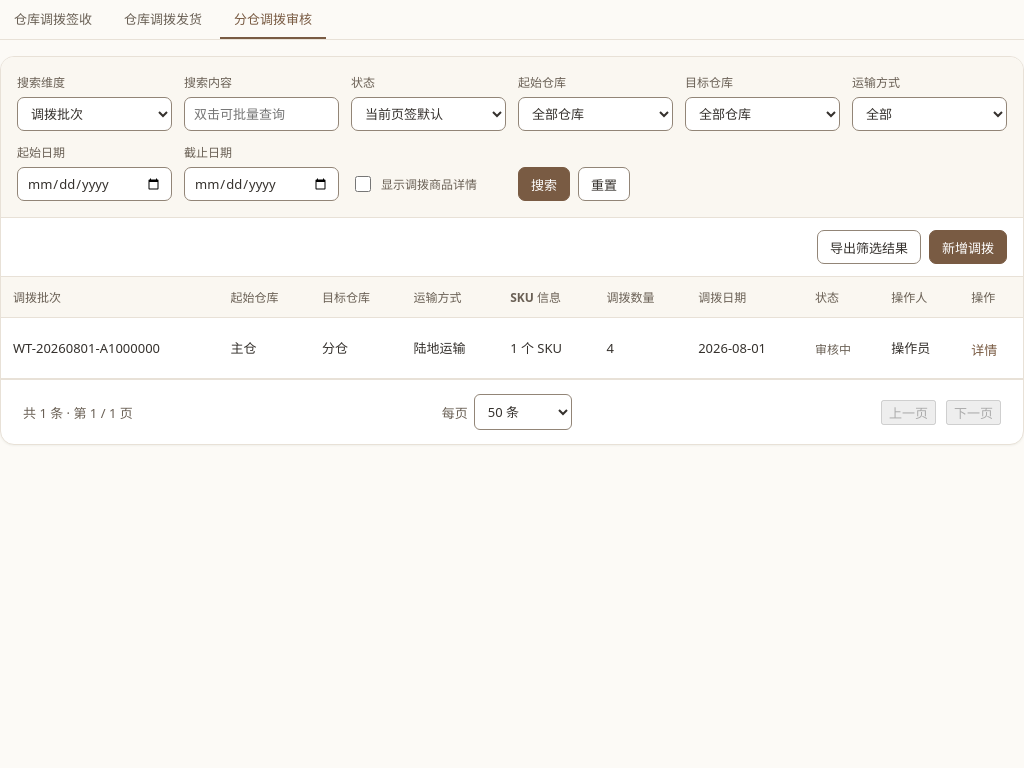
Scenario: WarehouseTransferPage › loads the approval queue and approves a transfer after confirmation
This screenshot has width=1024, height=768.
expect the text "WT-20260801-A1000000" is shown: met, box left=1, top=318, right=218, bottom=378
Click the button "详情" at (984, 350), box left=971, top=332, right=997, bottom=368
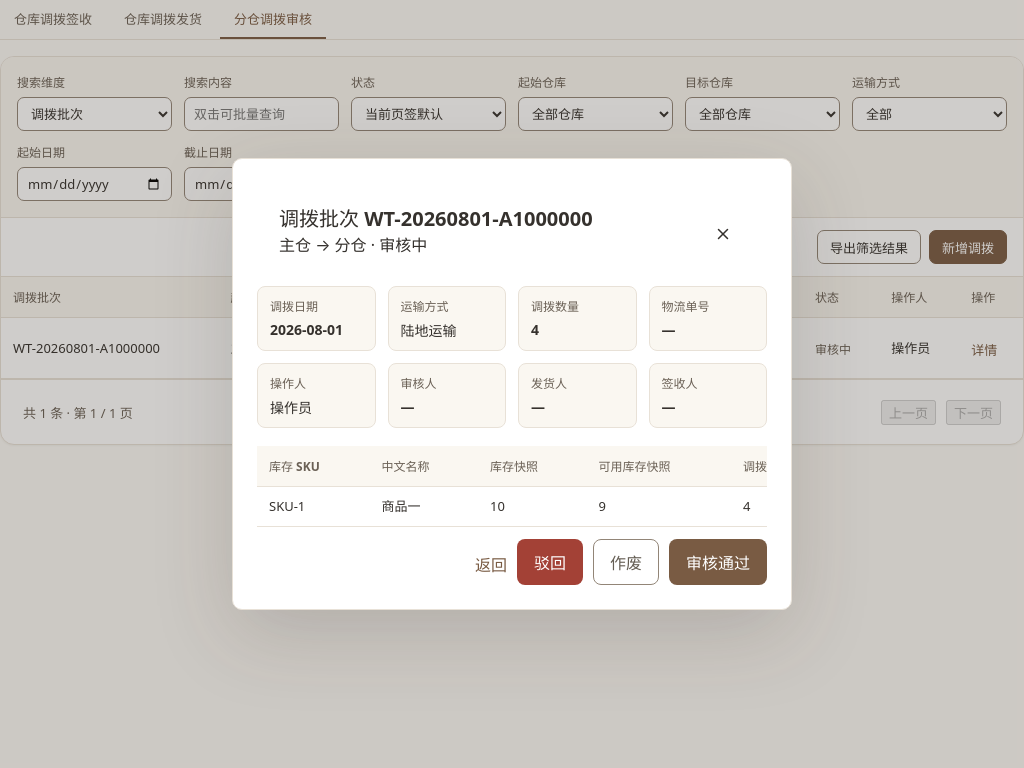
Click the button "审核通过" at (718, 562), box left=669, top=539, right=767, bottom=585
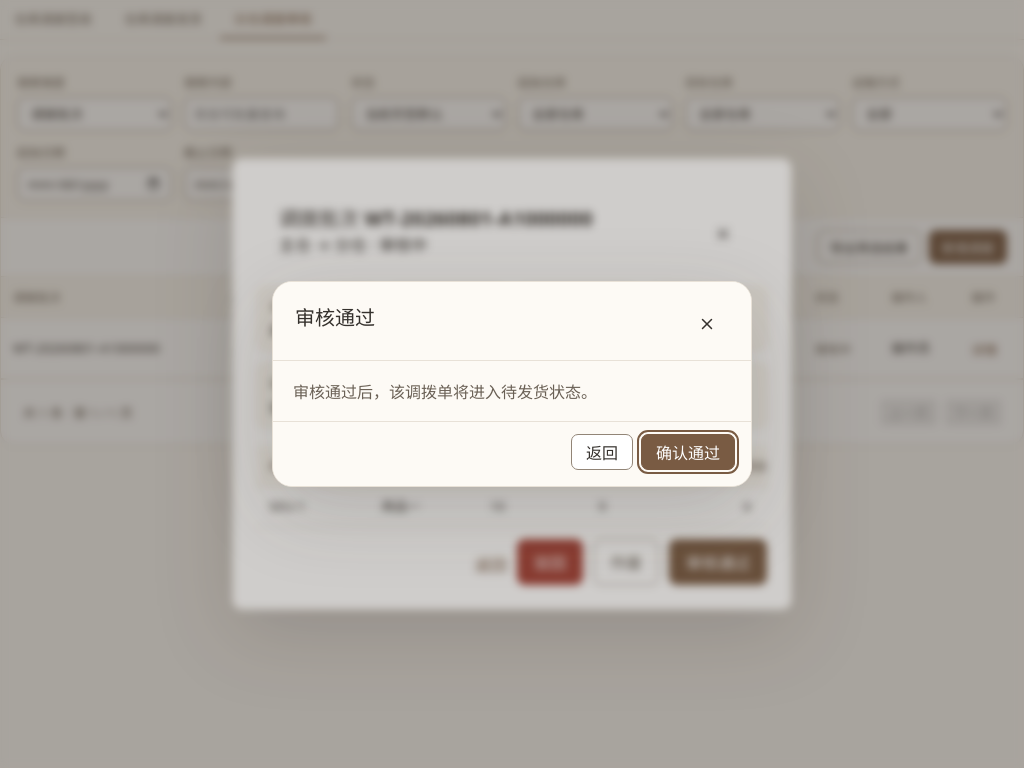
Click the button "确认通过" at (688, 452), box left=641, top=434, right=735, bottom=470
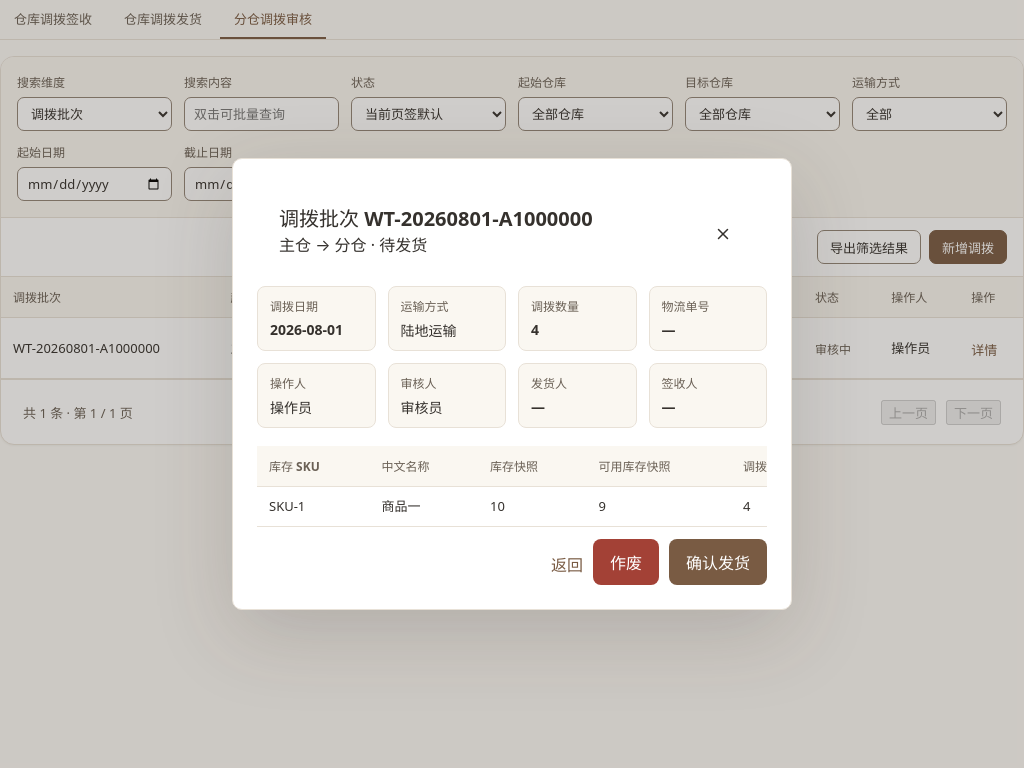
expect the text "审核员" is shown: met, box left=400, top=398, right=442, bottom=417
